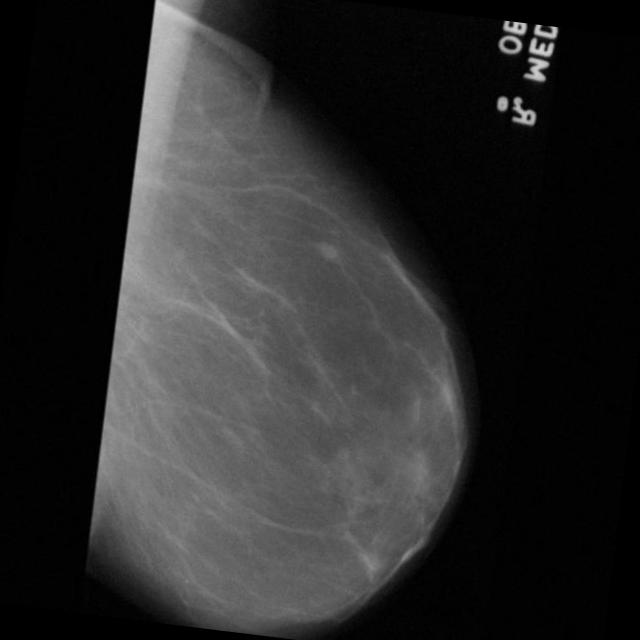SPIC: (308, 232, 350, 274)
